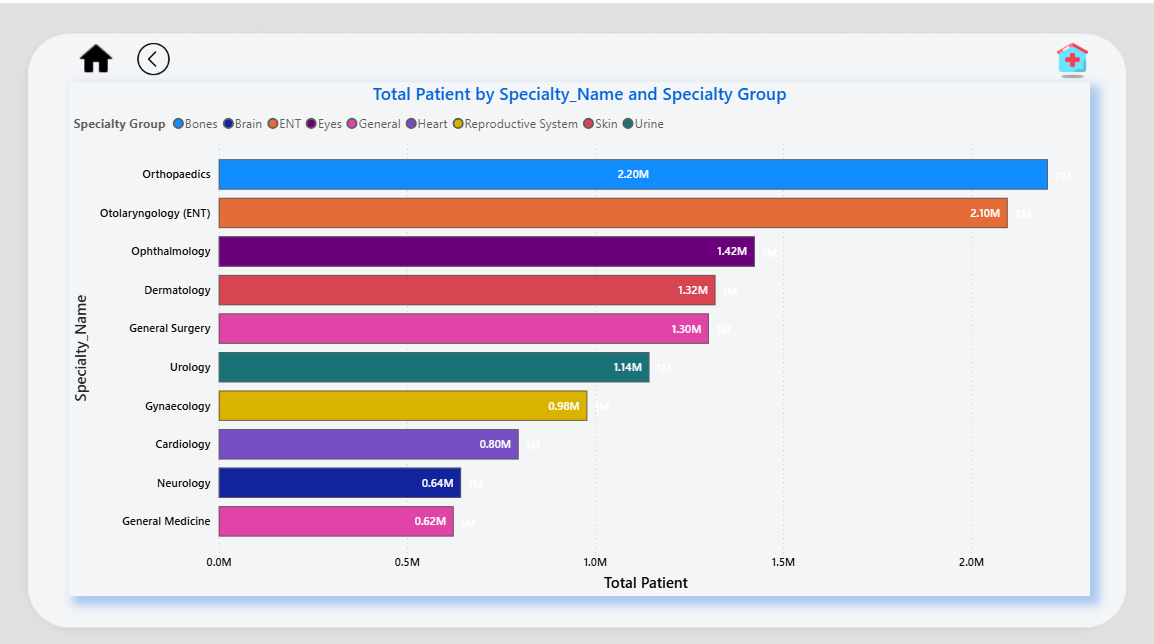

What the dashboard file says about the page in this screenshot:
{"tool":"powerbi","page":{"name":"Specialty Group","canvas":[1280,720],"ordinal":4},"visuals":[{"type":"image","box":[10,0,1270,720],"z":0},{"type":"barChart","fields":{"Category":["Hospital data.Specialty_Name"],"Y":["measurs.Total Patient"],"Series":["Mapping_Specialty.Specialty Group"]},"box":[100.4,95.5,1102.7,555.4],"z":1},{"type":"image","box":[105.2,47,48.6,48.6],"z":2},{"type":"image","box":[161.9,47,59.9,48.6],"z":3},{"type":"image","box":[1127,45.3,113.3,51.8],"z":4}]}

Visuals, with their boxes in screenshot pixels (x1, y1, x2, y2), scaled from the page's 1280x720 canvas onto the 1154x644 screenshot:
image: Rect(9, 0, 1153, 643)
barChart - Hospital data.Specialty_Name x measurs.Total Patient: Rect(91, 85, 1085, 582)
image: Rect(95, 42, 139, 86)
image: Rect(146, 42, 200, 86)
image: Rect(1016, 41, 1118, 87)
